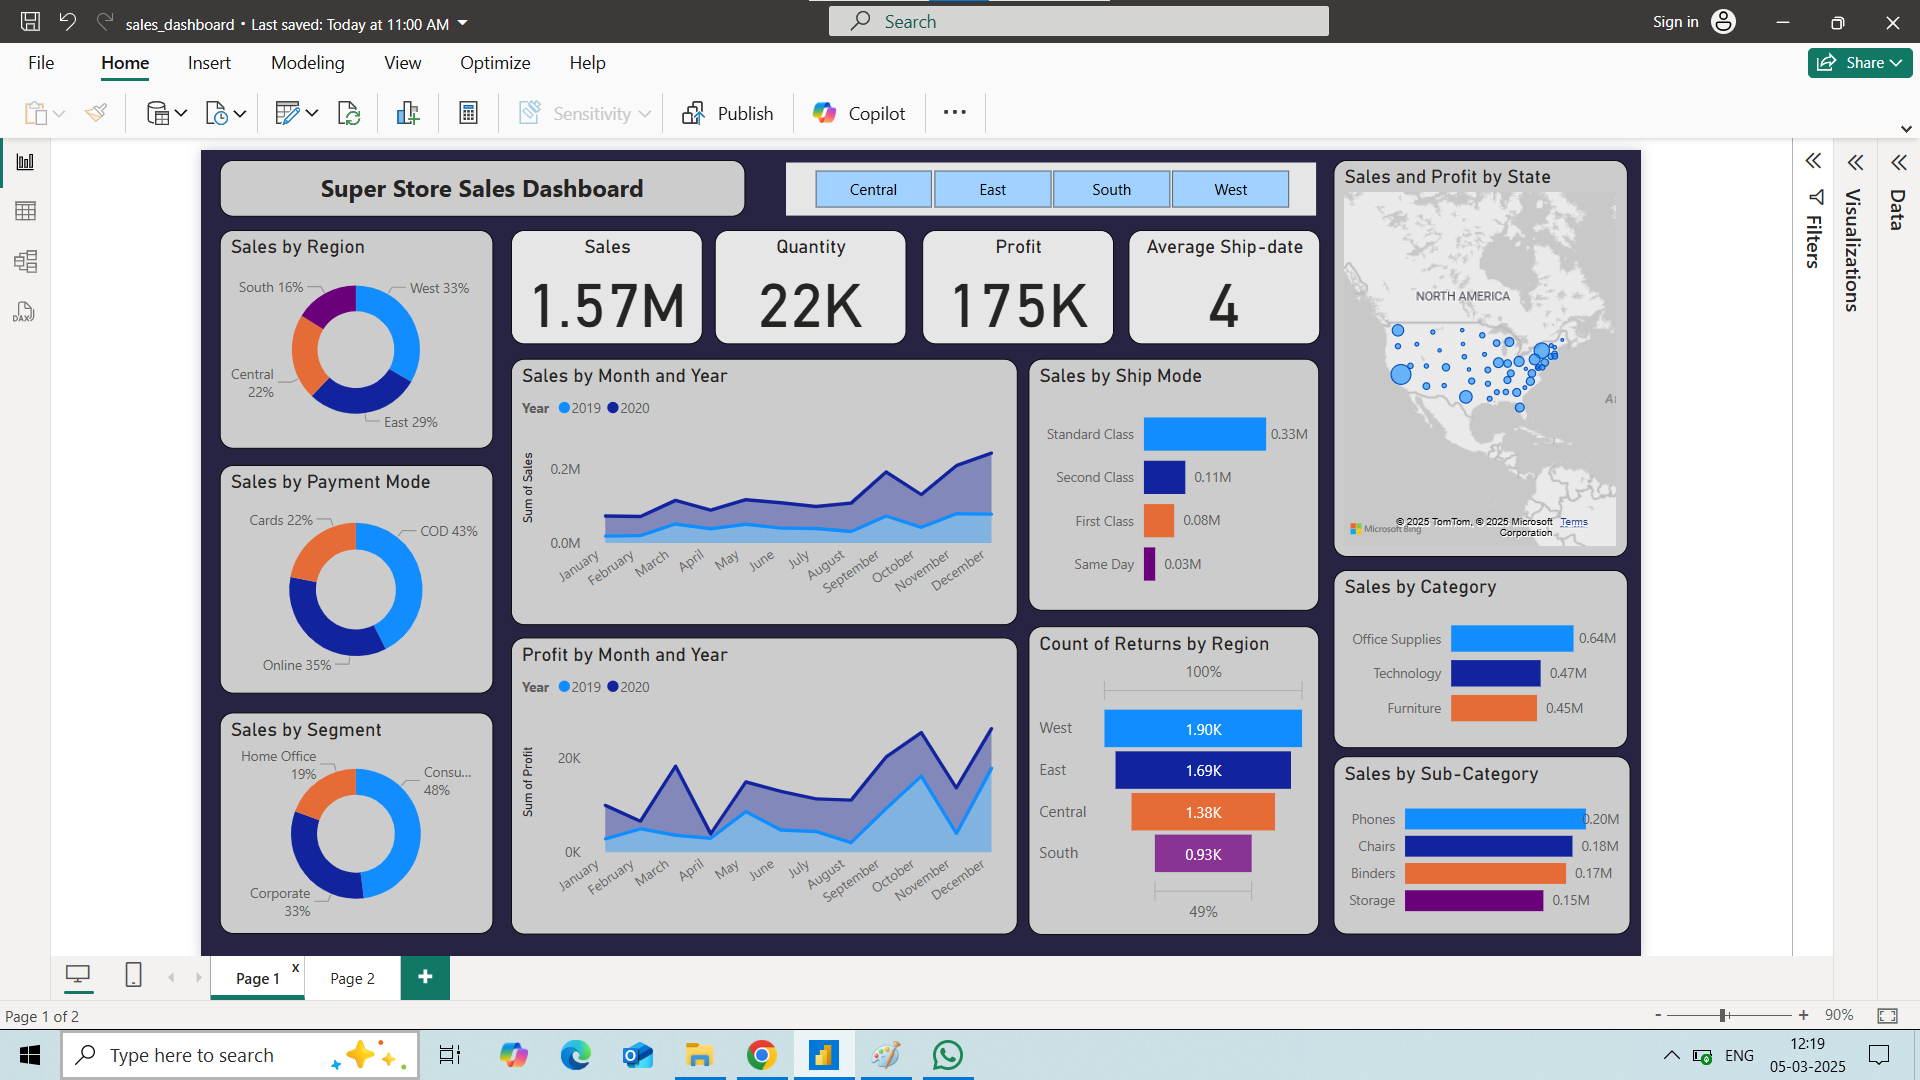

What the dashboard file says about the page in this screenshot:
{"tool":"powerbi","page":{"name":"Page 1","canvas":[1280,720],"ordinal":0},"visuals":[{"type":"clusteredBarChart","title":"Sales by Category","fields":{"Category":["SuperStore_Sales_Dataset.Category"],"Y":["Sum(SuperStore_Sales_Dataset.Sales)"]},"box":[1007.1,372.9,261.4,158.6],"z":0},{"type":"clusteredBarChart","title":"Sales by Sub-Category","fields":{"Y":["Sum(SuperStore_Sales_Dataset.Sales)"],"Category":["SuperStore_Sales_Dataset.Sub-Category"]},"box":[1007.1,538.6,264.3,158.6],"z":1000},{"type":"clusteredBarChart","title":"Sales by Ship Mode","fields":{"Y":["Sum(SuperStore_Sales_Dataset.Sales)"],"Category":["SuperStore_Sales_Dataset.Ship Mode"]},"box":[735.7,185.7,258.6,224.3],"z":2000},{"type":"stackedAreaChart","title":"Sales by Month and Year","fields":{"Y":["Sum(SuperStore_Sales_Dataset.Sales)"],"Category":["SuperStore_Sales_Dataset.Order Date.Variation.Date Hierarchy.Month","SuperStore_Sales_Dataset.Order Date.Variation.Date Hierarchy.Day"],"Series":["SuperStore_Sales_Dataset.Order Date.Variation.Date Hierarchy.Year"]},"box":[275.7,185.7,450,237.1],"z":3000},{"type":"stackedAreaChart","title":"Profit by Month and Year","fields":{"Category":["SuperStore_Sales_Dataset.Order Date.Variation.Date Hierarchy.Month","SuperStore_Sales_Dataset.Order Date.Variation.Date Hierarchy.Day"],"Series":["SuperStore_Sales_Dataset.Order Date.Variation.Date Hierarchy.Year"],"Y":["Sum(SuperStore_Sales_Dataset.Profit)"]},"box":[275.7,432.9,450,264.3],"z":4000},{"type":"map","title":"Sales and Profit by State","fields":{"Category":["SuperStore_Sales_Dataset.State"],"Size":["Sum(SuperStore_Sales_Dataset.Sales)"]},"box":[1007.1,8.6,261.4,352.9],"z":5000},{"type":"donutChart","title":"Sales by Segment","fields":{"Category":["SuperStore_Sales_Dataset.Segment"],"Y":["Sum(SuperStore_Sales_Dataset.Sales)"]},"box":[17.1,500,242.9,197.1],"z":6000},{"type":"donutChart","title":"Sales by Payment Mode","fields":{"Category":["SuperStore_Sales_Dataset.Payment Mode"],"Y":["Sum(SuperStore_Sales_Dataset.Sales)"]},"box":[17.1,280,242.9,202.9],"z":7000},{"type":"slicer","fields":{"Values":["SuperStore_Sales_Dataset.Region"]},"box":[520,11.4,471.4,47.1],"z":8000},{"type":"textbox","box":[17.1,8.6,467.1,50],"z":9000},{"type":"card","title":"Sales","fields":{"Values":["Sum(SuperStore_Sales_Dataset.Sales)"]},"box":[275.7,71.4,170,101.4],"z":10000},{"type":"card","title":"Quantity","fields":{"Values":["Sum(SuperStore_Sales_Dataset.Quantity)"]},"box":[457.1,71.4,170,101.4],"z":11000},{"type":"card","title":"Profit","fields":{"Values":["Sum(SuperStore_Sales_Dataset.Profit)"]},"box":[641.4,71.4,170,101.4],"z":12000},{"type":"card","title":"Average Ship-date","fields":{"Values":["Avg(SuperStore_Sales_Dataset.AvgDelivery)"]},"box":[824.3,71.4,170,101.4],"z":13000},{"type":"donutChart","title":"Sales by Region","fields":{"Y":["Sum(SuperStore_Sales_Dataset.Sales)"],"Category":["SuperStore_Sales_Dataset.Region"]},"box":[17.1,71.4,242.9,194.3],"z":14000},{"type":"funnel","fields":{"Category":["SuperStore_Sales_Dataset.Region"],"Y":["CountNonNull(SuperStore_Sales_Dataset.Returns)"]},"box":[735.7,422.9,258.6,274.3],"z":15000}]}

Visuals, with their boxes on the page's 1280x720 design canvas (x1, y1, x2, y2). These are canvas units, not pixel positions in the 1920x1080 screenshot, which may show the page scaled, cropped or inside an application window:
"Sales by Category" clusteredBarChart: detection(1007, 373, 1268, 532)
"Sales by Sub-Category" clusteredBarChart: detection(1007, 539, 1271, 697)
"Sales by Ship Mode" clusteredBarChart: detection(736, 186, 994, 410)
"Sales by Month and Year" stackedAreaChart: detection(276, 186, 726, 423)
"Profit by Month and Year" stackedAreaChart: detection(276, 433, 726, 697)
"Sales and Profit by State" map: detection(1007, 9, 1268, 362)
"Sales by Segment" donutChart: detection(17, 500, 260, 697)
"Sales by Payment Mode" donutChart: detection(17, 280, 260, 483)
slicer - SuperStore_Sales_Dataset.Region: detection(520, 11, 991, 58)
textbox: detection(17, 9, 484, 59)
"Sales" card: detection(276, 71, 446, 173)
"Quantity" card: detection(457, 71, 627, 173)
"Profit" card: detection(641, 71, 811, 173)
"Average Ship-date" card: detection(824, 71, 994, 173)
"Sales by Region" donutChart: detection(17, 71, 260, 266)
funnel - SuperStore_Sales_Dataset.Region x CountNonNull(SuperStore_Sales_Dataset.Returns): detection(736, 423, 994, 697)
